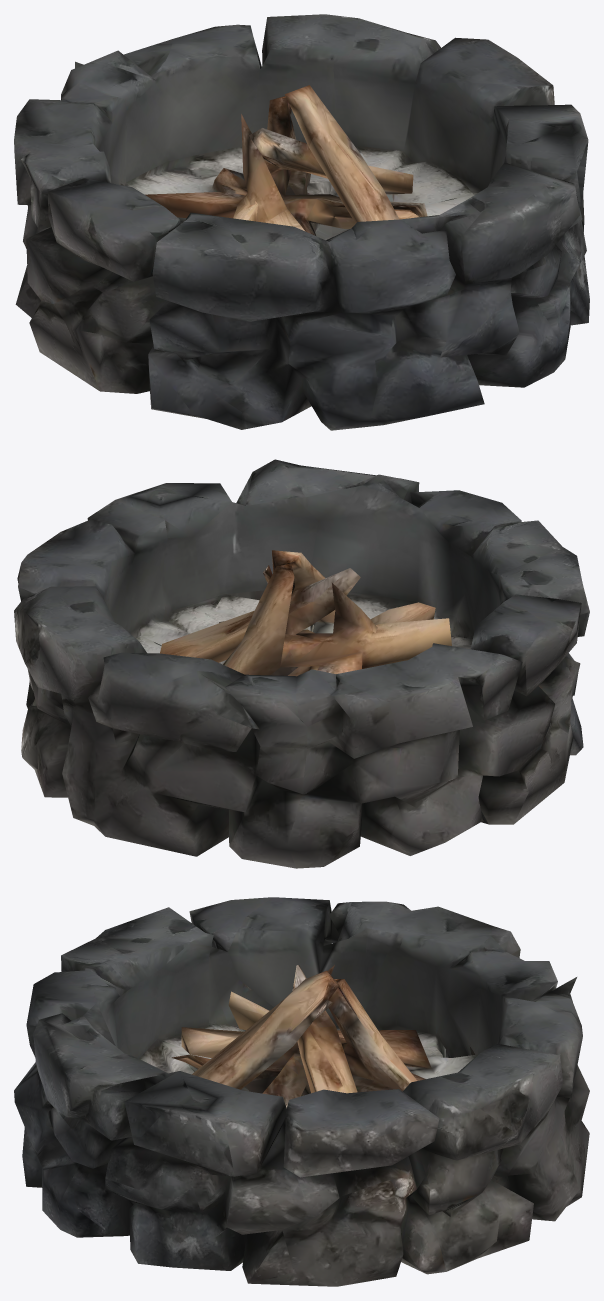
The model's file is fire-pit.glb.
The picture shows the model from 3 angles, top to bottom: view 1: azimuth 30°, elevation 25°; view 2: azimuth 150°, elevation 25°; view 3: azimuth 270°, elevation 25°; orthographic projection. The views are drawn at different scales.
Parts seen in each view (by area): view 1: tripo_node_42fe50b9-1a7f-4ded-9504-5da1b69dffe2; view 2: tripo_node_42fe50b9-1a7f-4ded-9504-5da1b69dffe2; view 3: tripo_node_42fe50b9-1a7f-4ded-9504-5da1b69dffe2.
Boxes of the visible parts, left/top/right/bottom form: tripo_node_42fe50b9-1a7f-4ded-9504-5da1b69dffe2: left=14, top=14, right=589, bottom=430; tripo_node_42fe50b9-1a7f-4ded-9504-5da1b69dffe2: left=14, top=459, right=589, bottom=868; tripo_node_42fe50b9-1a7f-4ded-9504-5da1b69dffe2: left=14, top=897, right=589, bottom=1286.
Bounding box in the file's own units: 0.9672 × 0.39 × 0.993.
1 material, 1 textured.
